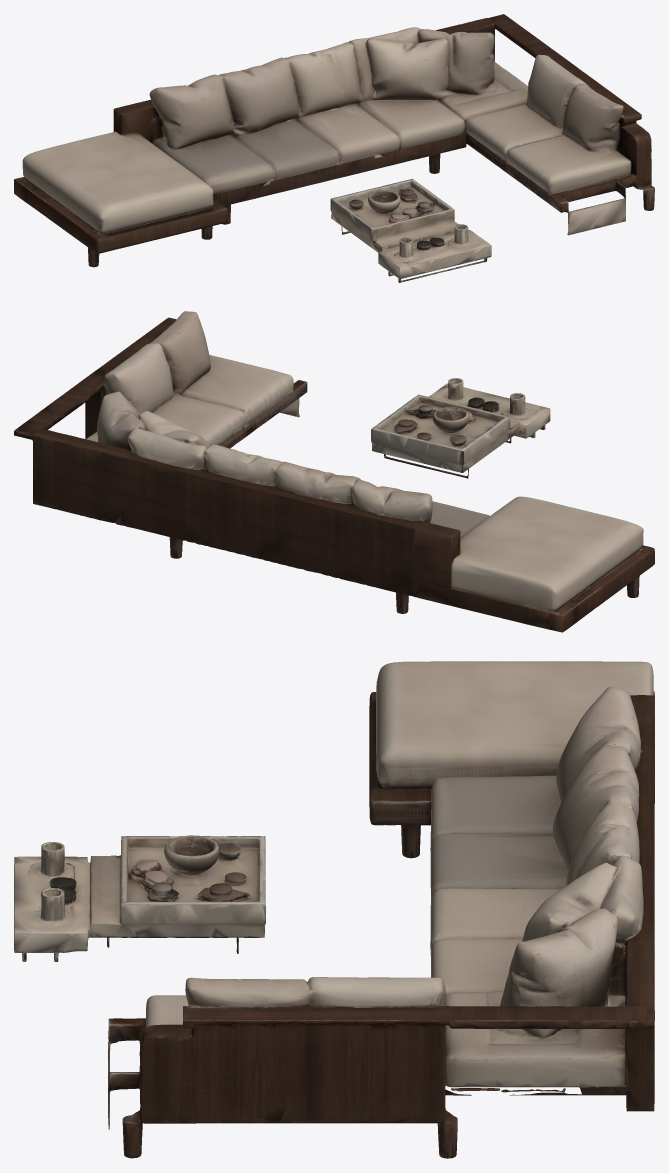
The model's file is outdoor.glb.
The picture shows the model from 3 angles, top to bottom: view 1: azimuth 30°, elevation 25°; view 2: azimuth 150°, elevation 25°; view 3: azimuth 270°, elevation 25°; orthographic projection. The views are drawn at different scales.
Parts seen in each view (by area): view 1: OutdoorSectional; view 2: OutdoorSectional; view 3: OutdoorSectional.
Boxes of the visible parts, bbox=[...] form: OutdoorSectional: bbox=[14, 14, 654, 282]; OutdoorSectional: bbox=[14, 311, 654, 632]; OutdoorSectional: bbox=[14, 661, 654, 1158].
Size of the model in its own units: 3.47 by 0.7 by 2.3.
1 material, 1 textured.
